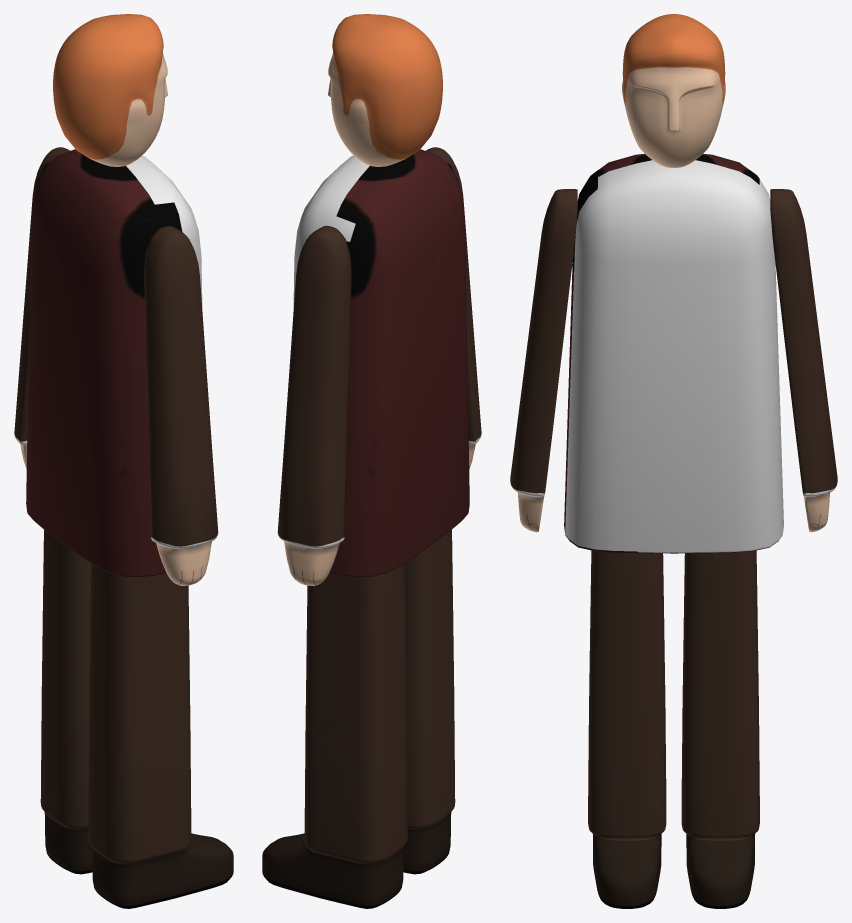
File: Ragnvald_Ghost.fbx
3 views of the same model, side by side, from view 1: azimuth 30°, elevation 25°; view 2: azimuth 150°, elevation 25°; view 3: azimuth 270°, elevation 25° (orthographic).
Visible parts, largest first — view 1: Retopo_bodyJacket, Retopo_legRight, Retopo_armRight_SleveLong, Retopo_legLeft, Retopo_Head, Retopo_armLeft_SleveLong; view 2: Retopo_bodyJacket, Retopo_legLeft, Retopo_armLeft_SleveLong, Retopo_legRight, Retopo_Head, Retopo_armRight_SleveLong; view 3: Retopo_bodyJacket, Retopo_legLeft, Retopo_legRight, Retopo_Head, Retopo_armLeft_SleveLong, Retopo_armRight_SleveLong.
Boxes of the visible parts, <box> form: Retopo_bodyJacket: <box>26,149,202,576</box>; Retopo_legRight: <box>88,563,233,908</box>; Retopo_armRight_SleveLong: <box>144,225,218,585</box>; Retopo_legLeft: <box>40,530,92,874</box>; Retopo_Head: <box>53,14,167,166</box>; Retopo_armLeft_SleveLong: <box>14,147,70,468</box>; Retopo_bodyJacket: <box>293,149,469,576</box>; Retopo_legLeft: <box>262,564,407,908</box>; Retopo_armLeft_SleveLong: <box>277,225,351,585</box>; Retopo_legRight: <box>403,530,455,874</box>; Retopo_Head: <box>328,14,442,166</box>; Retopo_armRight_SleveLong: <box>425,147,481,468</box>; Retopo_bodyJacket: <box>564,153,783,553</box>; Retopo_legLeft: <box>681,550,759,908</box>; Retopo_legRight: <box>588,550,666,908</box>; Retopo_Head: <box>622,14,725,167</box>; Retopo_armLeft_SleveLong: <box>770,189,837,532</box>; Retopo_armRight_SleveLong: <box>510,189,577,532</box>.
Size of the model in its own units: 30.81 by 172 by 60.21.
